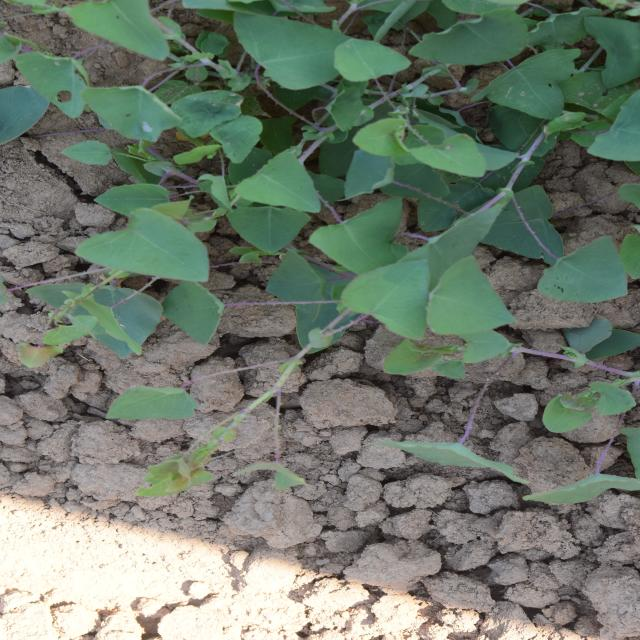Asiatic_Smartweed: (288, 306, 445, 596), (383, 212, 534, 490), (270, 12, 454, 240), (127, 108, 293, 308), (503, 7, 618, 215), (522, 420, 640, 590), (540, 220, 630, 401)
